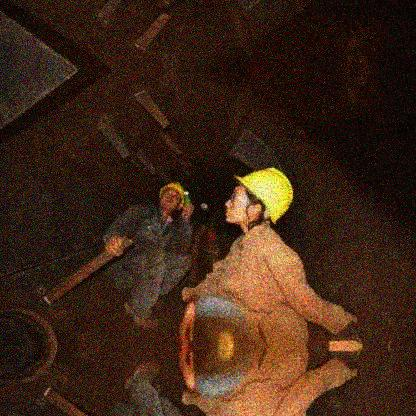helmet: (222, 167, 293, 228), (158, 181, 185, 215)
